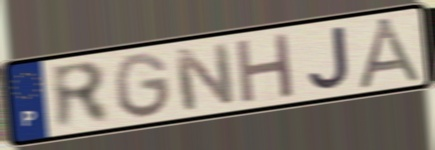A: (354, 14, 428, 91)
G: (112, 50, 173, 121)
H: (233, 30, 297, 107)
J: (306, 23, 352, 93)
N: (171, 40, 239, 114)
R: (47, 59, 115, 133)
